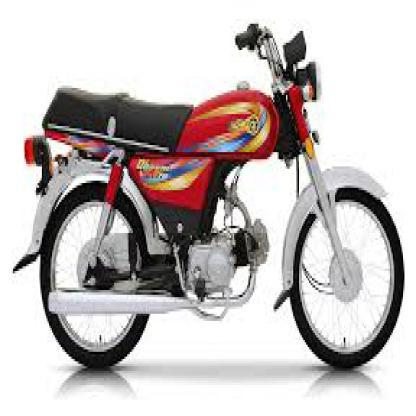Motorcycle: (14, 8, 408, 374)
